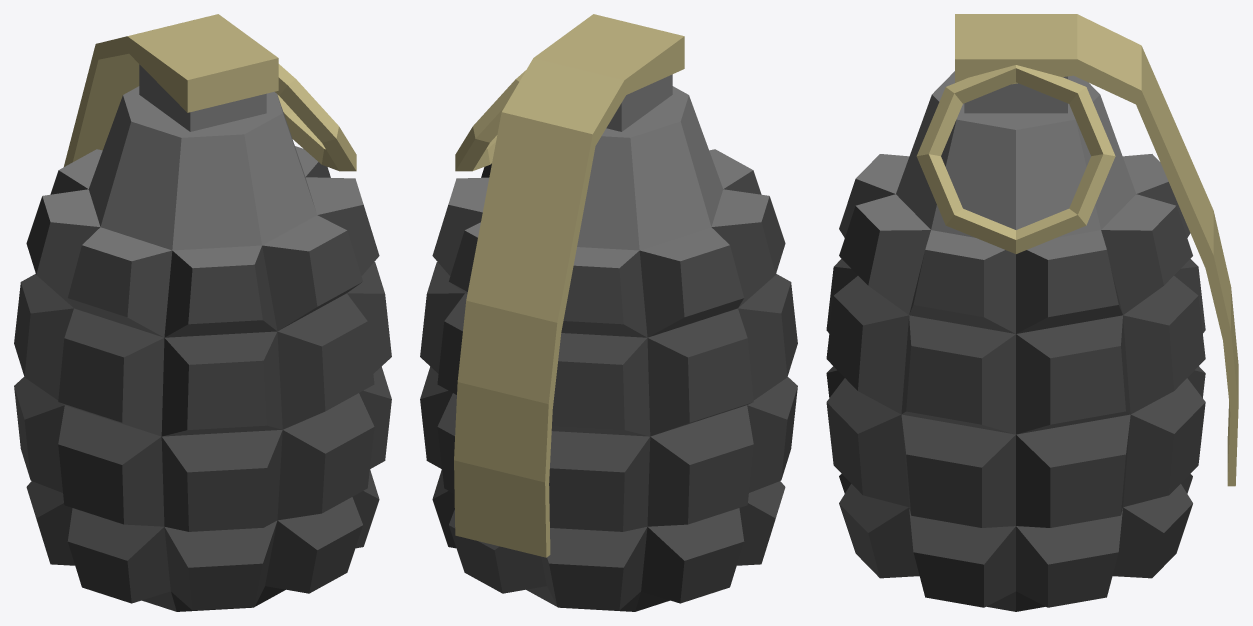
File: Grenade-01.fbx
3 views of the same model, side by side, from view 1: azimuth 30°, elevation 25°; view 2: azimuth 150°, elevation 25°; view 3: azimuth 270°, elevation 25° (orthographic).
Visible parts, largest first — view 1: Cylinder.014; view 2: Cylinder.014; view 3: Cylinder.014.
Part boxes in pixels (x1,y1,x2,y2): Cylinder.014: (14,14,391,611); Cylinder.014: (420,14,797,611); Cylinder.014: (826,14,1238,611).
Size of the model in its own units: 134 by 207 by 145.
